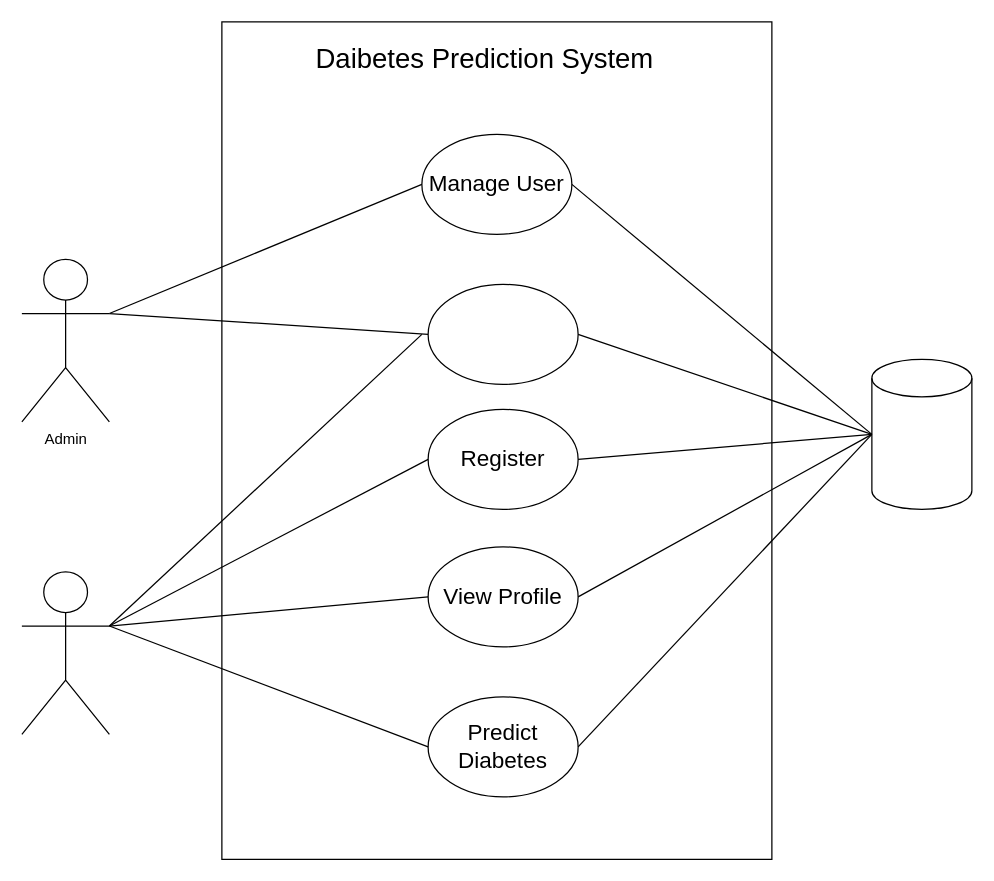
This 994x881 diagram has some shape labels left out. Each missing label, with the centre of its shape:
Database: (921,433)
Login: (502,333)
User: (65,652)
